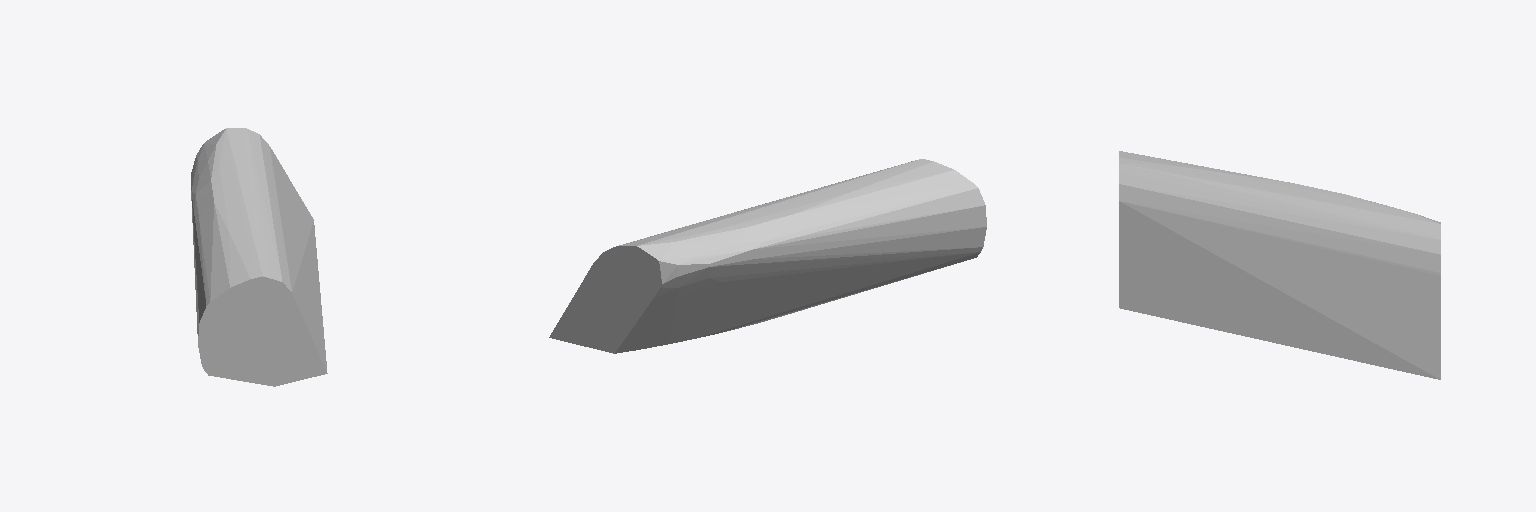
Rendered from skillet_collision_9.obj.
3 views of the same model, side by side, from view 1: azimuth 30°, elevation 25°; view 2: azimuth 150°, elevation 25°; view 3: azimuth 270°, elevation 25° (orthographic).
Size of the model in its own units: 0.0442 by 0.0173 by 0.0445.